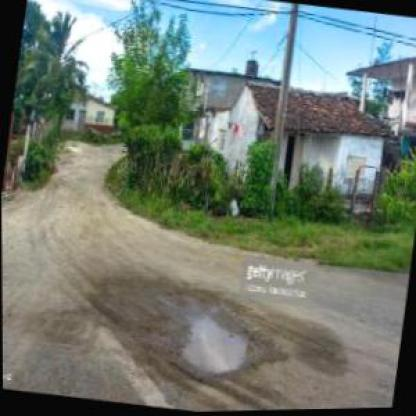pothole: (173, 305, 252, 381)
